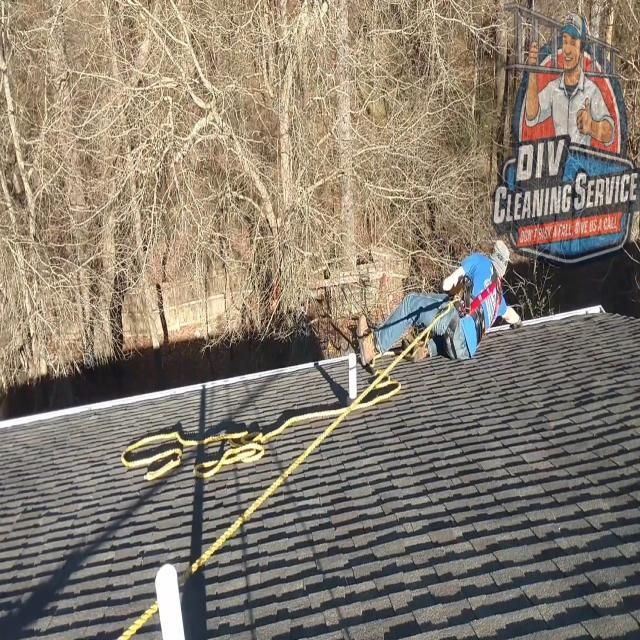belt: (438, 256, 503, 362)
